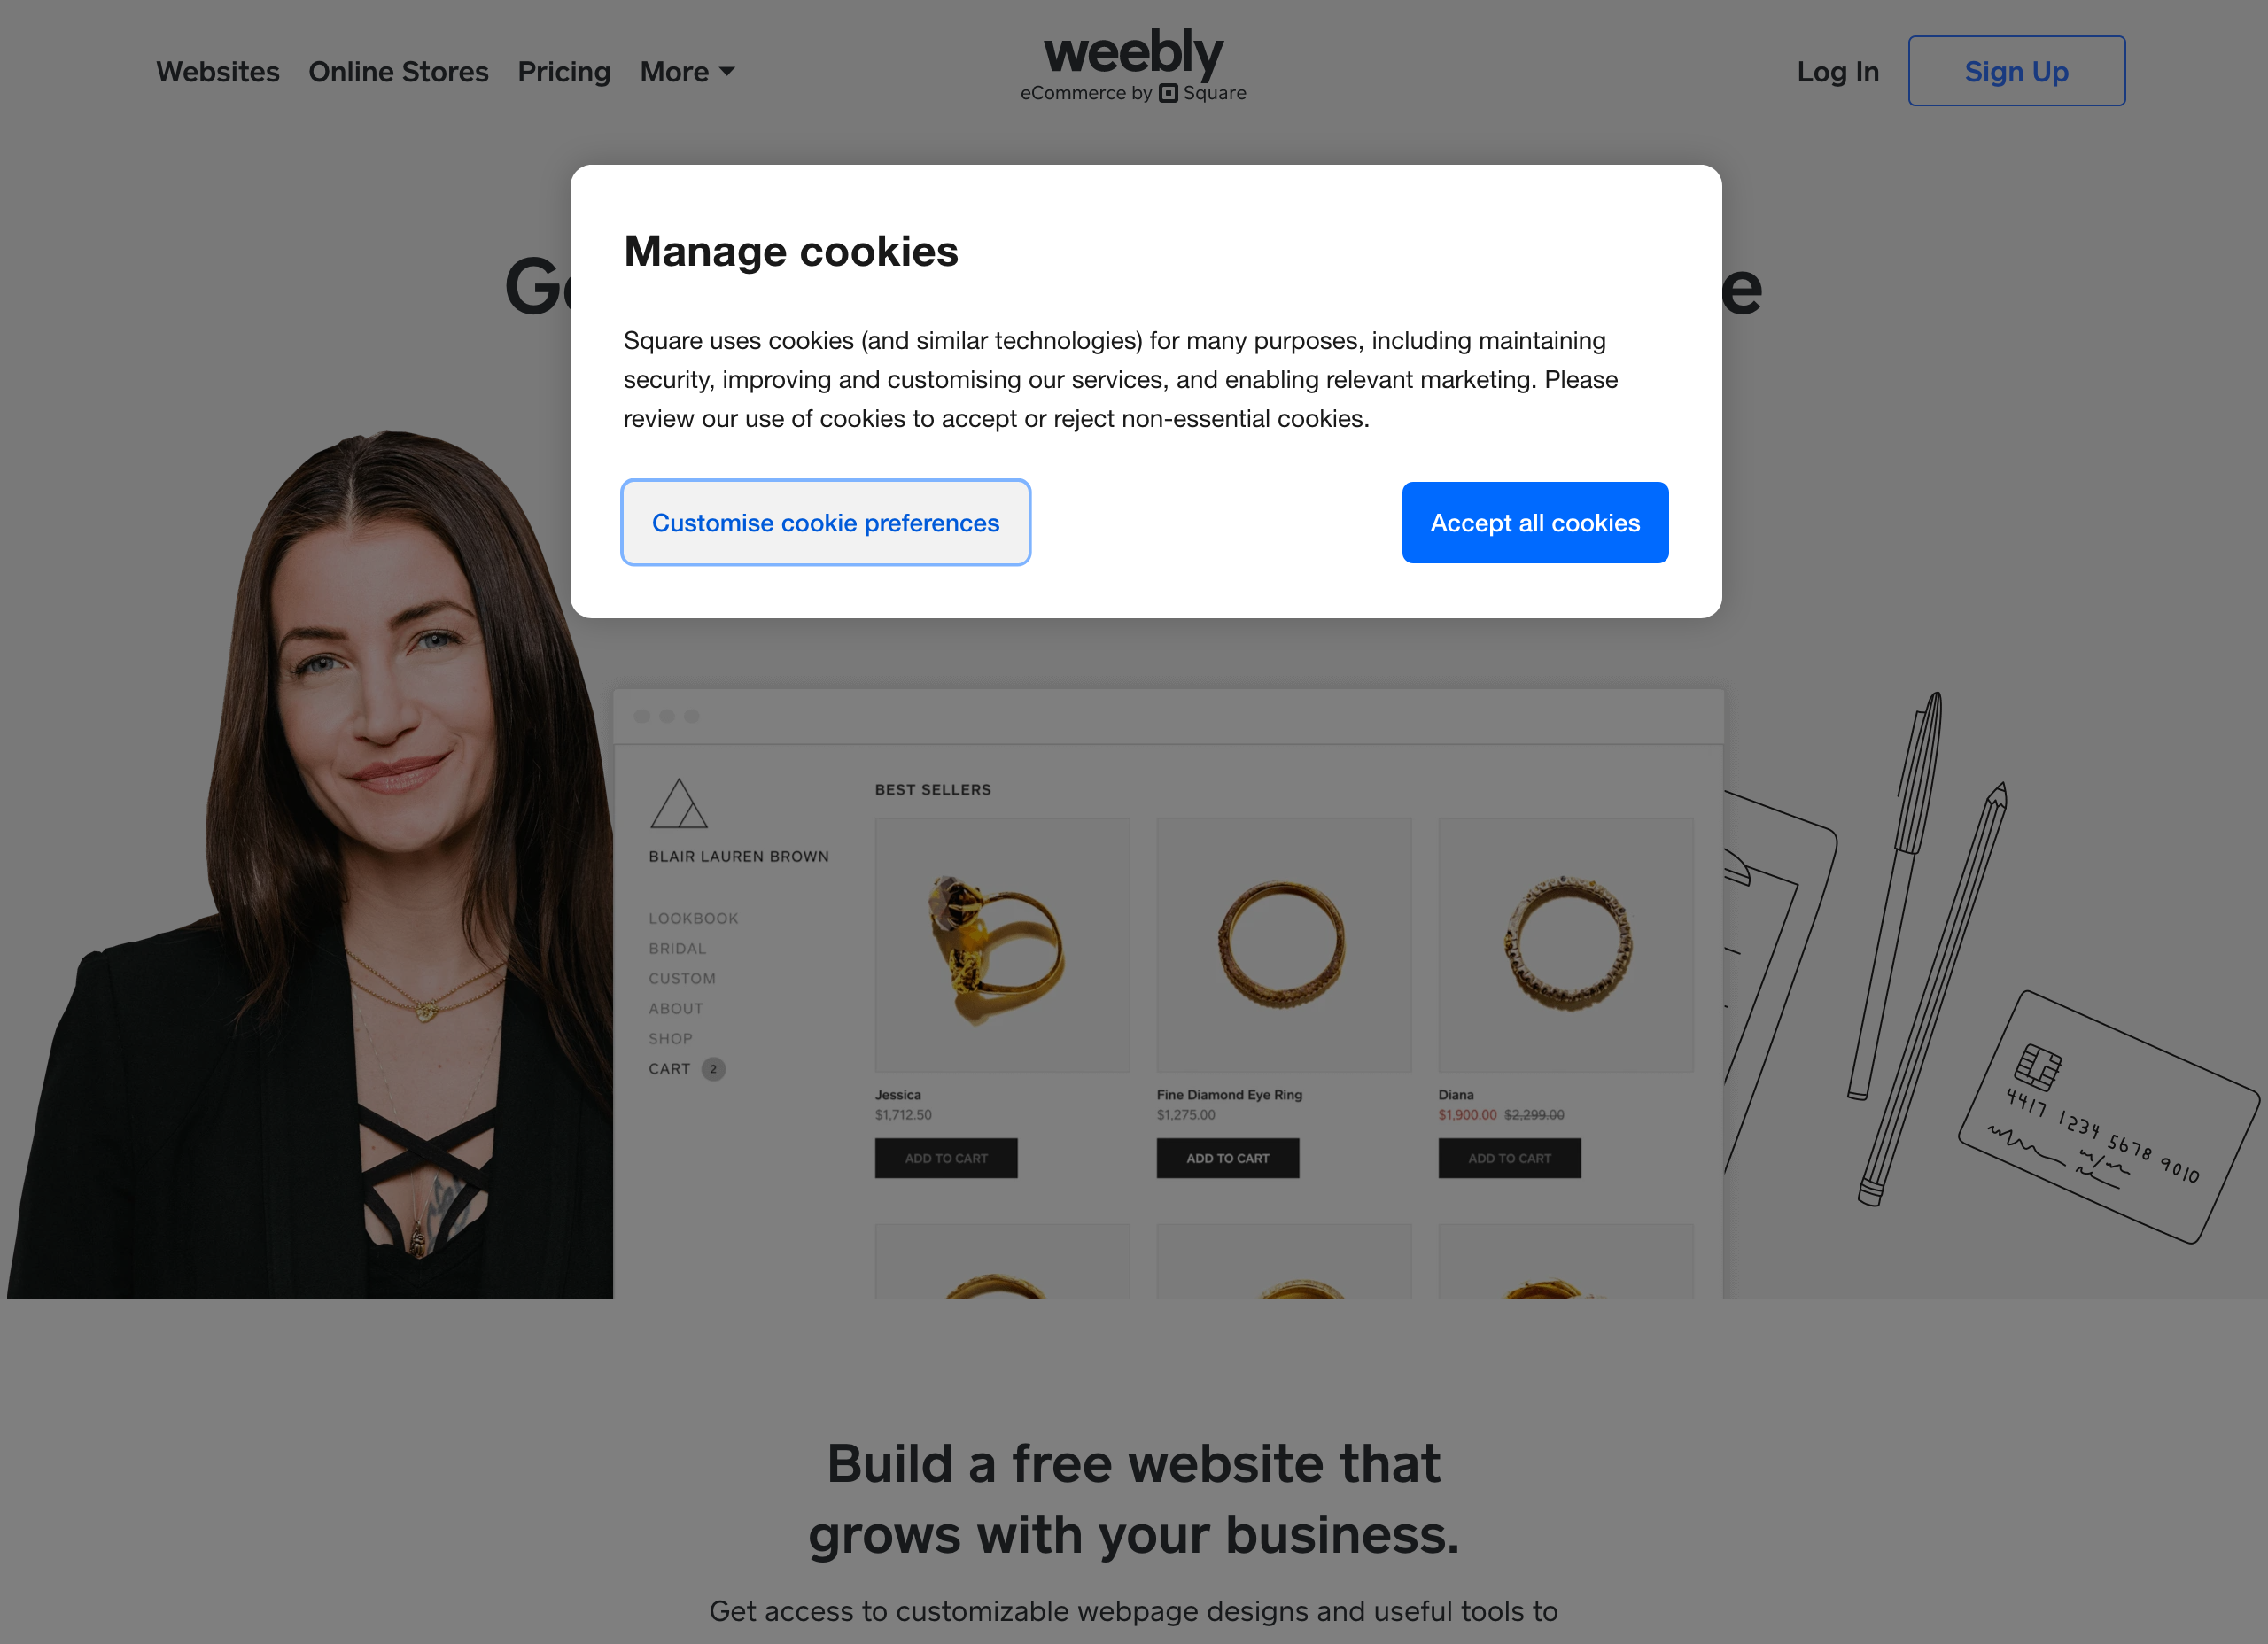Login: (1780, 42, 1893, 106)
